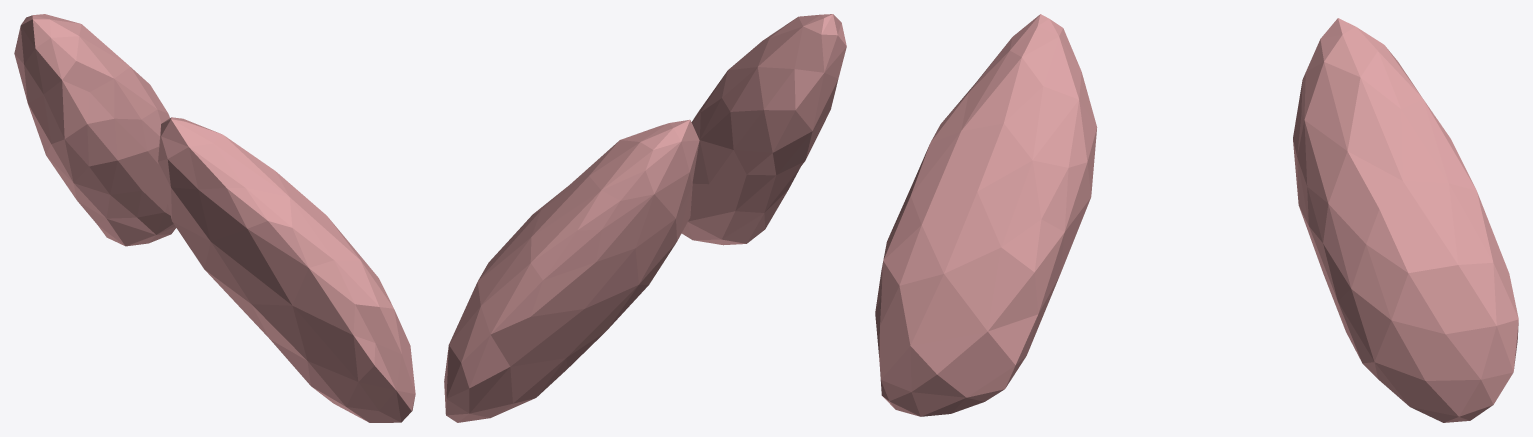
The picture shows the model from 3 angles, left to right: view 1: azimuth 30°, elevation 25°; view 2: azimuth 150°, elevation 25°; view 3: azimuth 270°, elevation 25°; orthographic projection. The views are drawn at different scales.
Visible parts, largest first — view 1: 414.obj; view 2: 414.obj; view 3: 414.obj.
Boxes of the visible parts, x1,y1,x2,y2 form: 414.obj: (14, 14, 415, 422); 414.obj: (444, 14, 846, 422); 414.obj: (875, 14, 1518, 422).
Size of the model in its own units: 354 by 523 by 952.
